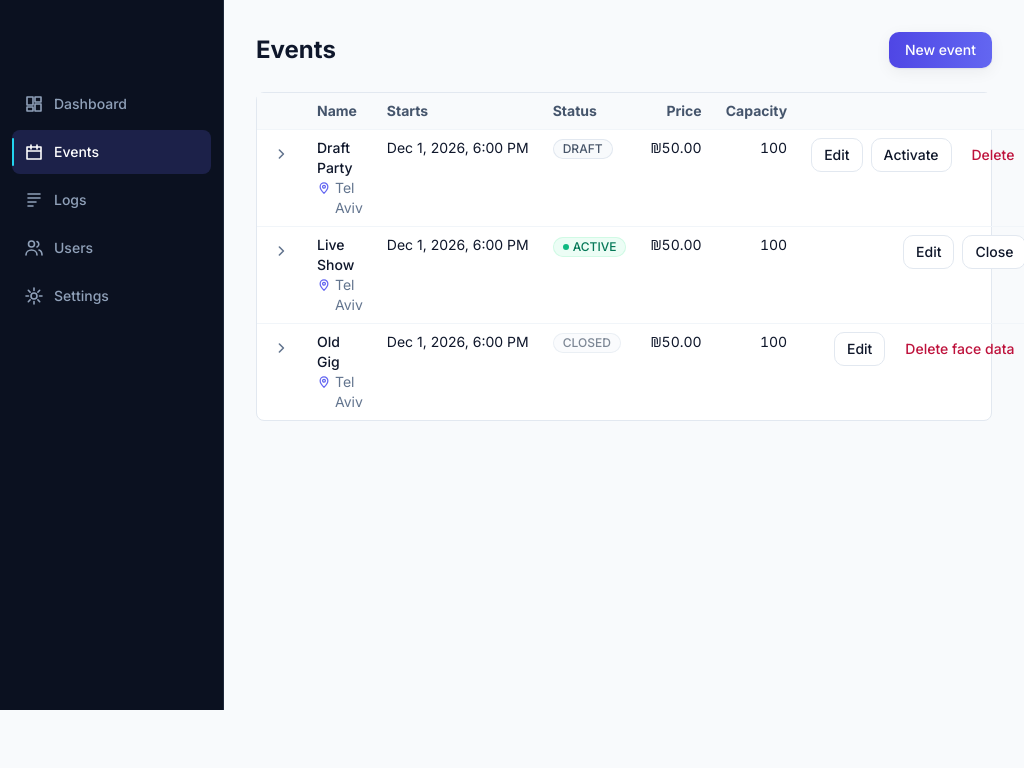
Test case: EventsAdminPage › says when there was no face data left
Click the button "Delete face data" at (959, 349), box x1=893 y1=332 x2=1023 y2=366
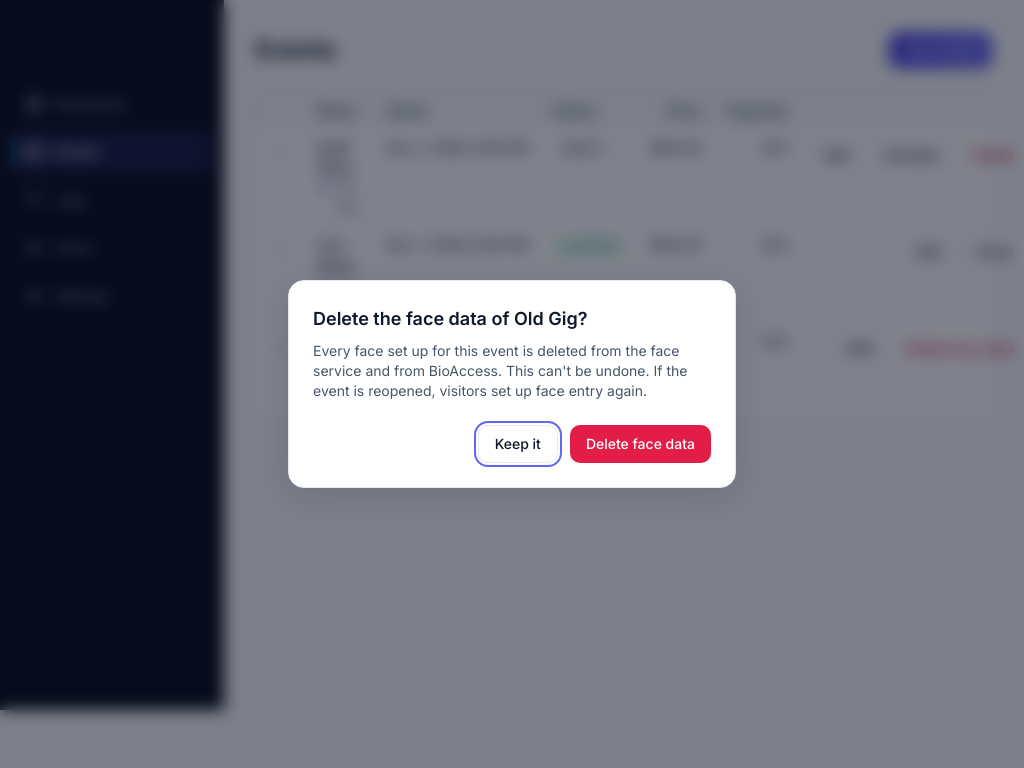
Click the button "Delete face data" at (640, 444), box x1=570 y1=425 x2=711 y2=463
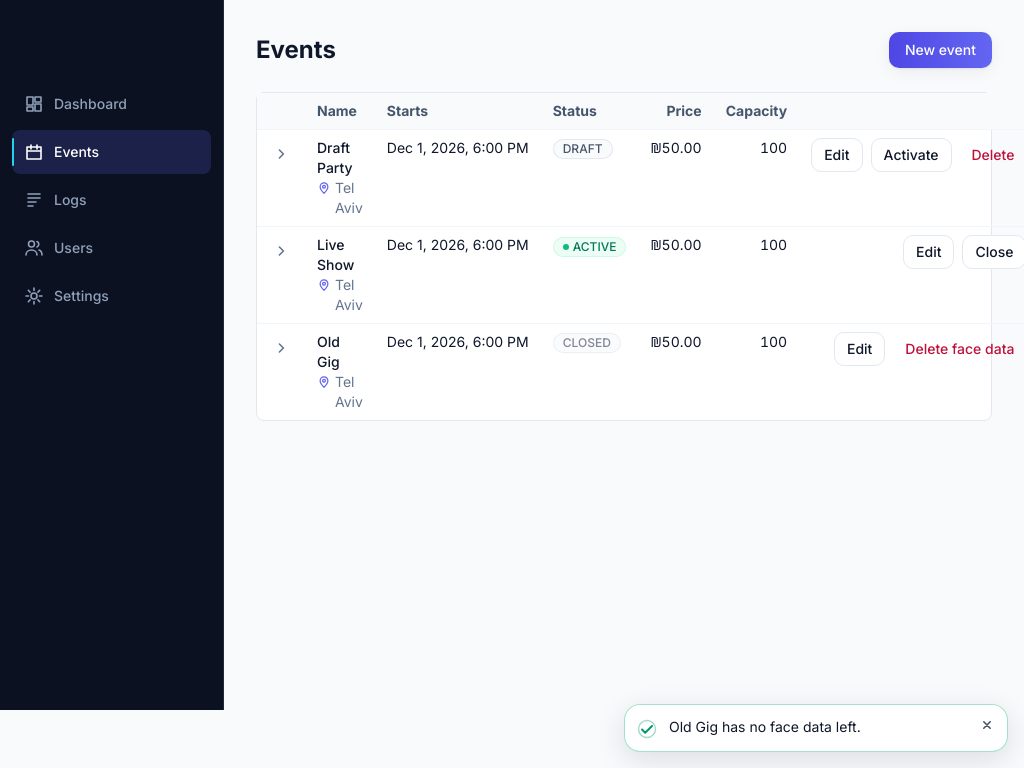
Expected: the text "Old Gig has no face data left." is shown, x1=669 y1=718 x2=861 y2=735
